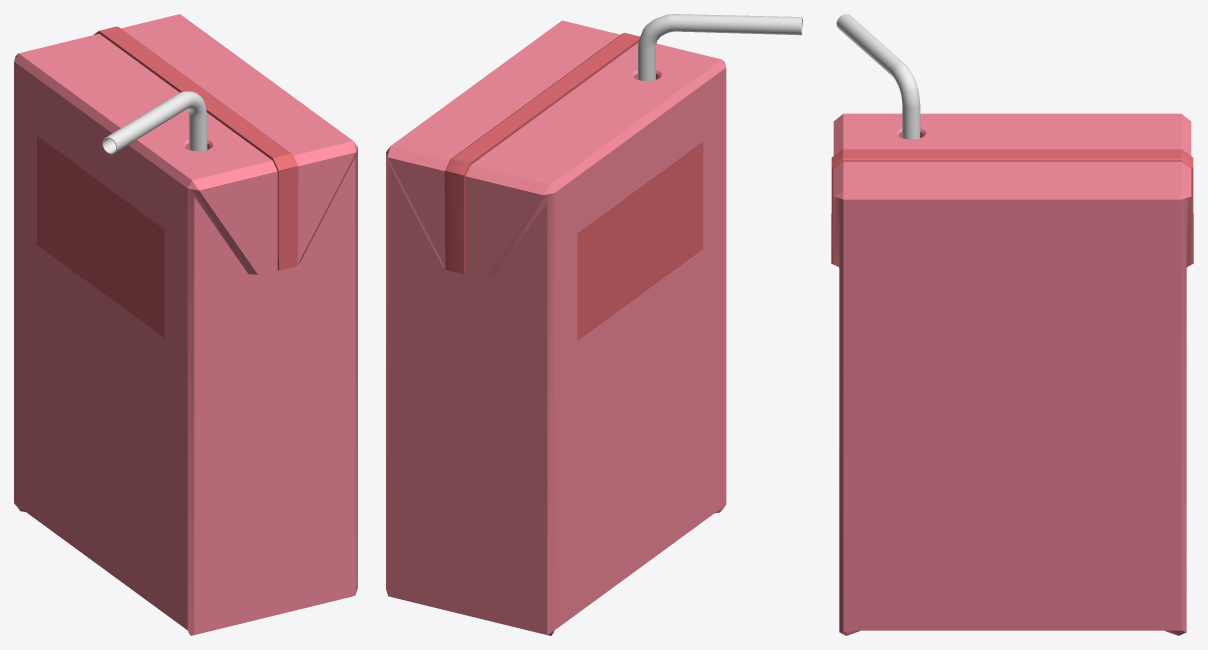
File: juicebox.fbx
3 renders of one model, left to right at view 1: azimuth 30°, elevation 25°; view 2: azimuth 150°, elevation 25°; view 3: azimuth 270°, elevation 25°, orthographic. The views are drawn at different scales.
Parts seen in each view (by area): view 1: 立方体, 柱体; view 2: 立方体, 柱体; view 3: 立方体, 柱体.
Part boxes in pixels (x1,y1,x2,y2): 立方体: [14, 14, 357, 635]; 柱体: [102, 91, 207, 154]; 立方体: [386, 20, 726, 635]; 柱体: [638, 14, 802, 80]; 立方体: [831, 113, 1193, 635]; 柱体: [836, 14, 920, 139].
Bounding box in the file's own units: 183 × 363 × 235.
